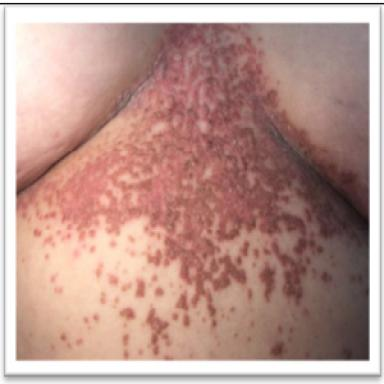Darier_s-Disease: (14, 24, 368, 361)
